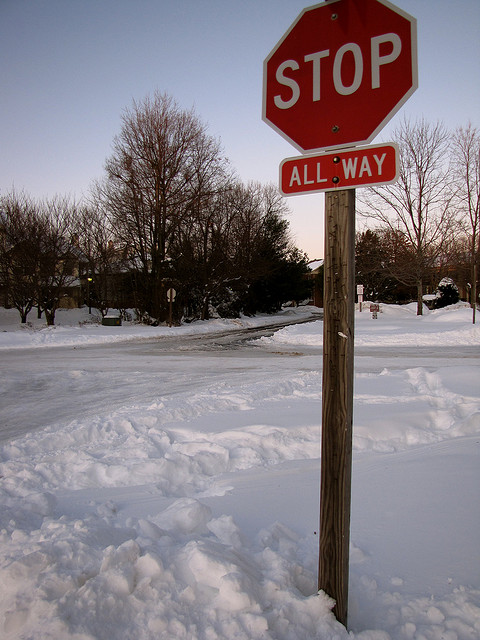Stop: (259, 4, 421, 143)
